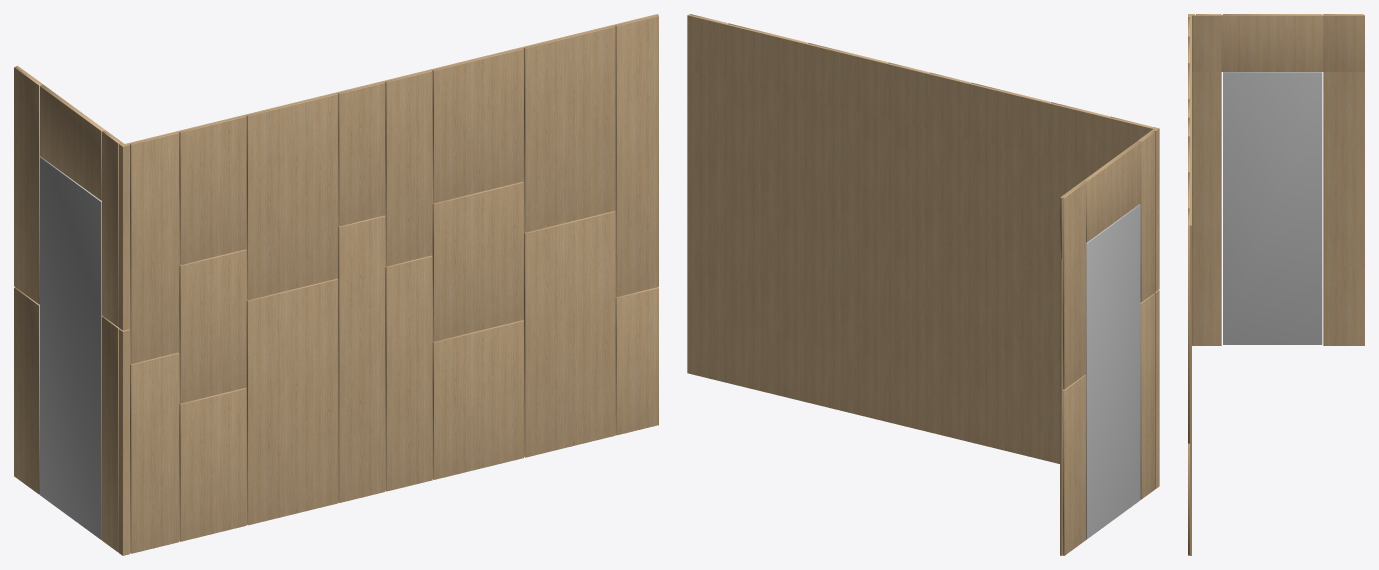
File: Placare_.fbx
The picture shows the model from 3 angles, left to right: view 1: azimuth 30°, elevation 25°; view 2: azimuth 150°, elevation 25°; view 3: azimuth 270°, elevation 25°; orthographic projection. The views are drawn at different scales.
Parts seen in each view (by area): view 1: usa_geo0___glass, Fro_3_geo0___H3157_ST12, Fro_7_geo0___H3157_ST12, Fro_11_geo0___H3157_ST12, Fro_15_geo0___H3157_ST12, Fro_4_geo0___H3157_ST12, Fro_6_geo0___H3157_ST12, Fro_14_geo0___H3157_ST12, Fro_18_geo0___H3157_ST12, Fro_16_geo0___H3157_ST12, Fro_9_geo0___H3157_ST12, Fro_5_geo0___H3157_ST12 (+16 smaller); view 2: S_5_geo0___H3157_ST12, S_3_geo0___H3157_ST12, S_4_geo0___H3157_ST12, S_2_geo0___H3157_ST12, usa_geo0___glass, S_up_10_geo0___H3157_ST12, Fro_3_a_geo0___H3157_ST12, S_up_8_geo0___H3157_ST12, S_up_9_geo0___H3157_ST12, S_up_7_geo0___H3157_ST12, S_up_6_geo0___H3157_ST12, Fro_1_a_geo0___H3157_ST12 (+7 smaller); view 3: usa_geo0___glass, S_1_a_geo0___H3157_ST12, S_2_a_geo0___H3157_ST12, S_4_a_geo0___H3157_ST12, S_3_a_geo0___H3157_ST12, S_5_a_geo0___H3157_ST12, S_5_geo0___H3157_ST12, Fro_16_geo0___H3157_ST12.
Part boxes in pixels (bbox=[...]): usa_geo0___glass: bbox=[40, 157, 102, 539]; Fro_3_geo0___H3157_ST12: bbox=[246, 278, 338, 525]; Fro_7_geo0___H3157_ST12: bbox=[524, 211, 615, 457]; Fro_11_geo0___H3157_ST12: bbox=[246, 93, 338, 299]; Fro_15_geo0___H3157_ST12: bbox=[524, 26, 615, 232]; Fro_4_geo0___H3157_ST12: bbox=[338, 215, 385, 502]; Fro_6_geo0___H3157_ST12: bbox=[432, 320, 523, 479]; Fro_14_geo0___H3157_ST12: bbox=[432, 181, 523, 341]; Fro_18_geo0___H3157_ST12: bbox=[432, 48, 523, 202]; Fro_16_geo0___H3157_ST12: bbox=[615, 15, 658, 296]; Fro_9_geo0___H3157_ST12: bbox=[130, 132, 179, 363]; Fro_5_geo0___H3157_ST12: bbox=[385, 255, 432, 491]; S_5_geo0___H3157_ST12: bbox=[687, 70, 805, 401]; S_3_geo0___H3157_ST12: bbox=[885, 118, 968, 441]; S_4_geo0___H3157_ST12: bbox=[805, 99, 885, 421]; S_2_geo0___H3157_ST12: bbox=[969, 139, 1048, 461]; usa_geo0___glass: bbox=[1085, 204, 1140, 539]; S_up_10_geo0___H3157_ST12: bbox=[687, 14, 805, 98]; Fro_3_a_geo0___H3157_ST12: bbox=[1062, 181, 1086, 389]; S_up_8_geo0___H3157_ST12: bbox=[885, 63, 969, 138]; S_up_9_geo0___H3157_ST12: bbox=[805, 43, 885, 118]; S_up_7_geo0___H3157_ST12: bbox=[969, 83, 1049, 158]; S_up_6_geo0___H3157_ST12: bbox=[1049, 103, 1156, 170]; Fro_1_a_geo0___H3157_ST12: bbox=[1062, 374, 1086, 555]; usa_geo0___glass: bbox=[1223, 72, 1322, 344]; S_1_a_geo0___H3157_ST12: bbox=[1323, 72, 1364, 345]; S_2_a_geo0___H3157_ST12: bbox=[1192, 72, 1221, 345]; S_4_a_geo0___H3157_ST12: bbox=[1221, 15, 1323, 71]; S_3_a_geo0___H3157_ST12: bbox=[1323, 15, 1364, 71]; S_5_a_geo0___H3157_ST12: bbox=[1192, 15, 1221, 71]; S_5_geo0___H3157_ST12: bbox=[1190, 276, 1191, 555]; Fro_16_geo0___H3157_ST12: bbox=[1188, 208, 1189, 443].
Bounding box in the file's own units: 4466 × 3250 × 1576.
